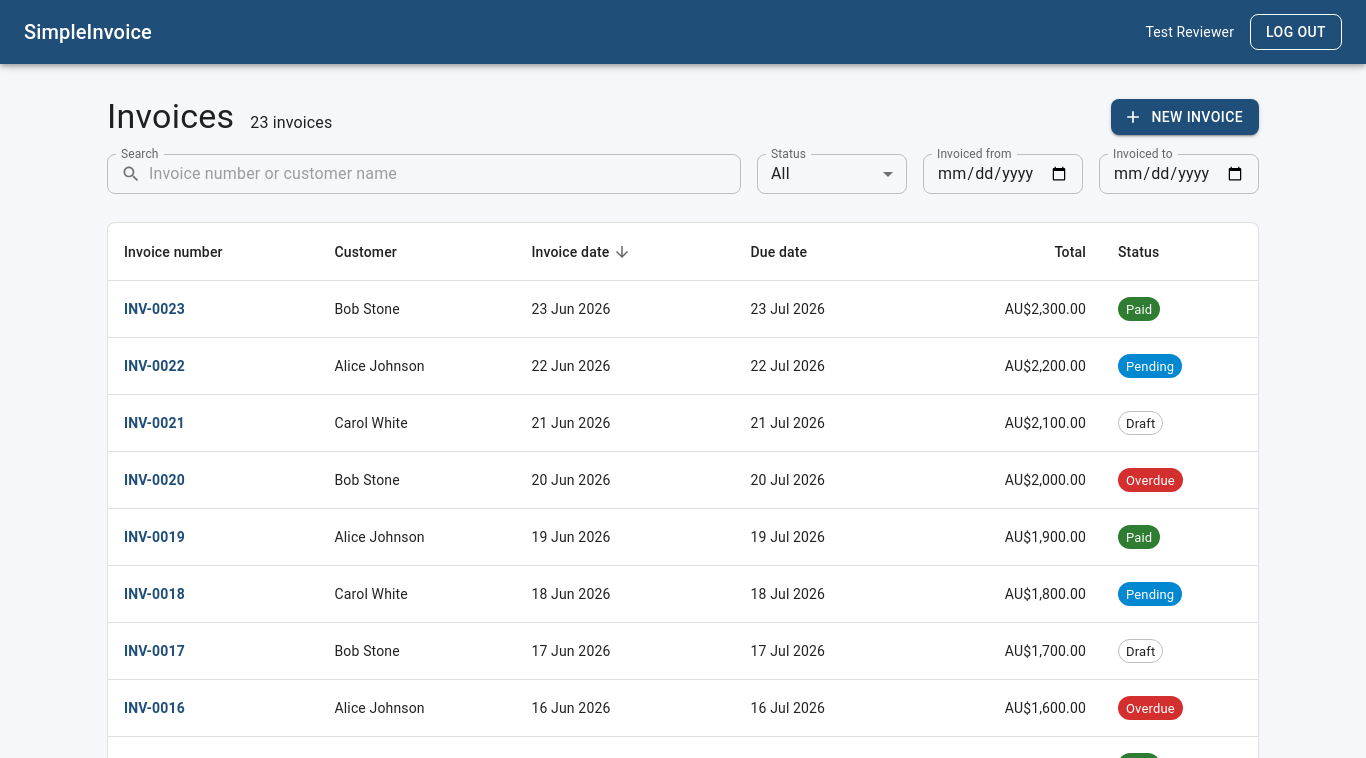
Test: InvoiceListPage › status filter › filters by Paid
The image size is (1366, 758).
Expected: the heading "Invoices" is shown, [107,96,234,138]
What coordinates should you click on to do the following:
click the dropdown named "Status"
I would click on:
 (780, 174)
Its box is [771,164,790,184].
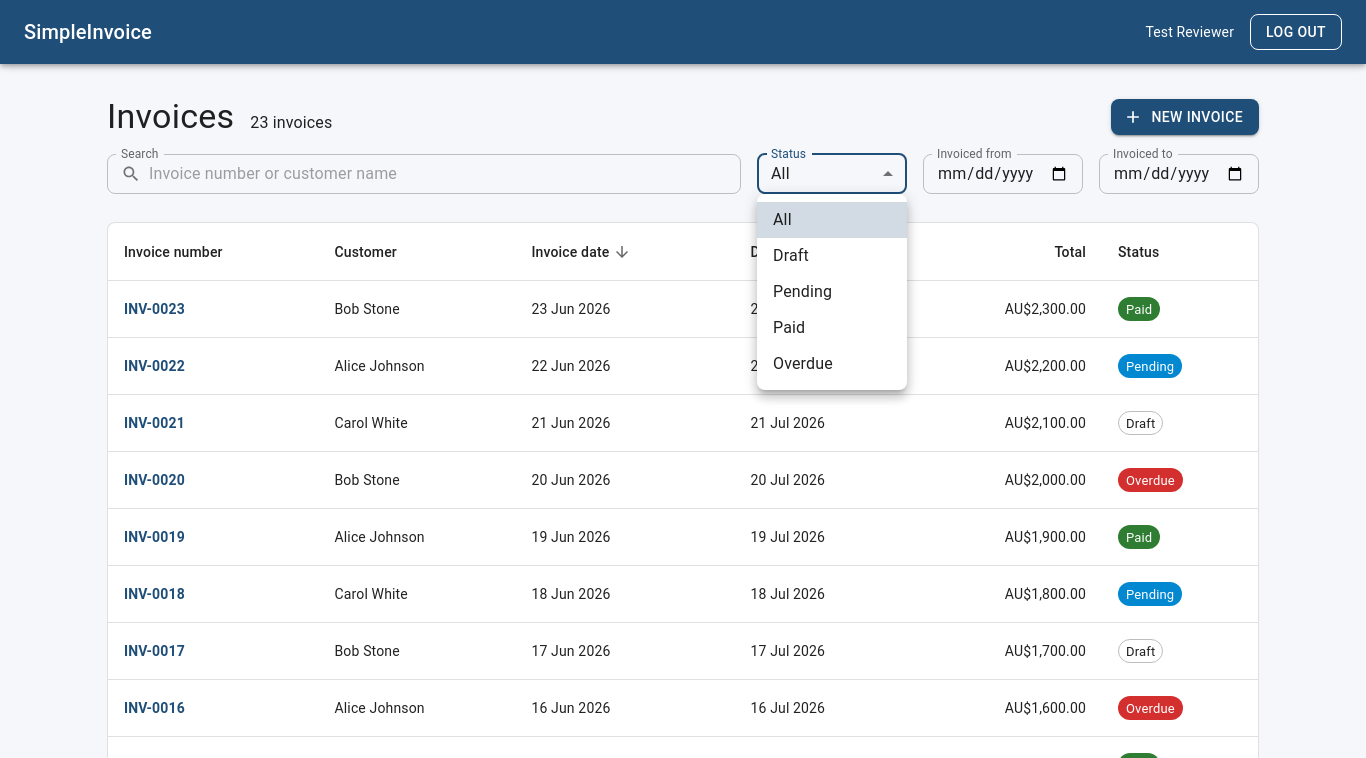
What coordinates should you click on to do the following:
click the option "Paid"
I would click on:
 (789, 328)
Its box is [773,318,805,337].
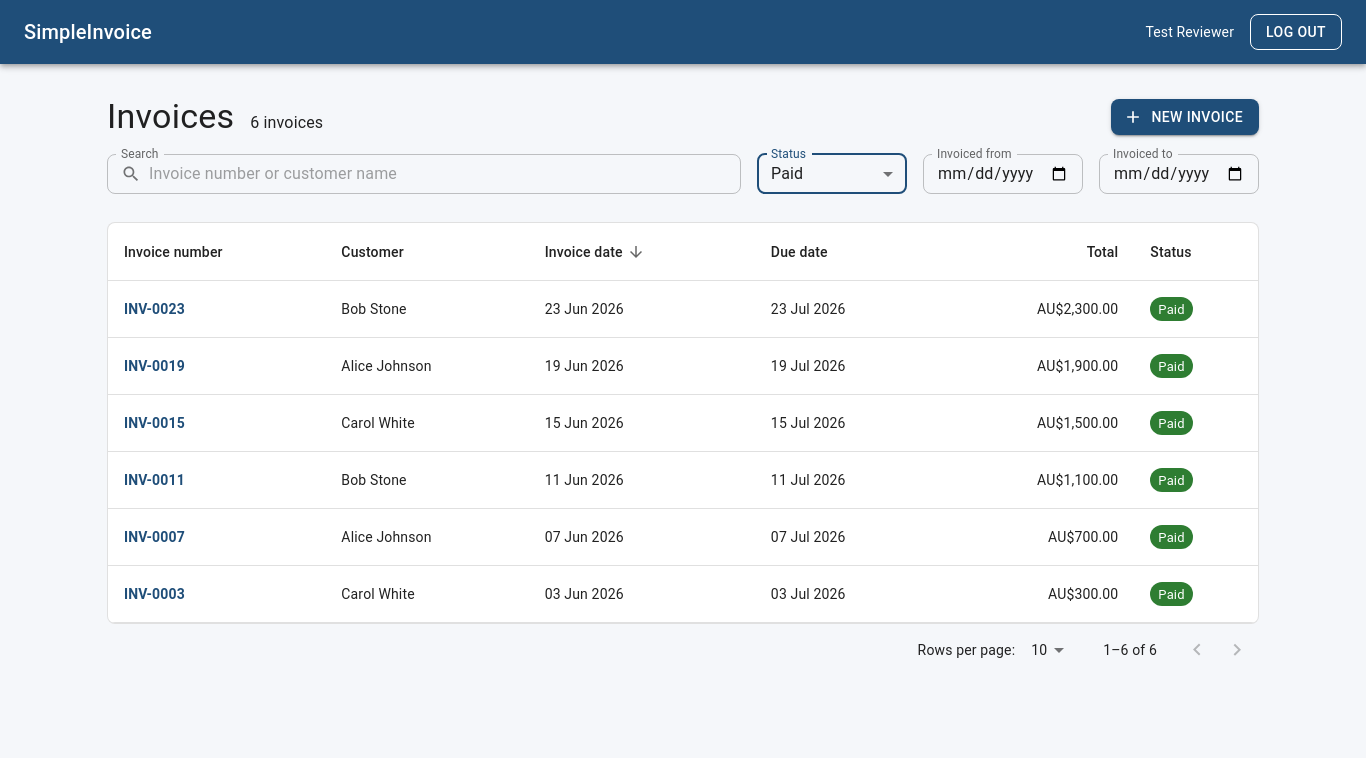
Expected: the dropdown named "Status" reads "Paid", [771,164,803,184]
Expected: the cell "Paid" in the row of "INV-0011" is shown, [1158,472,1185,488]
Expected: the cell "Paid" in the row of "INV-0007" is shown, [1158,530,1185,544]
